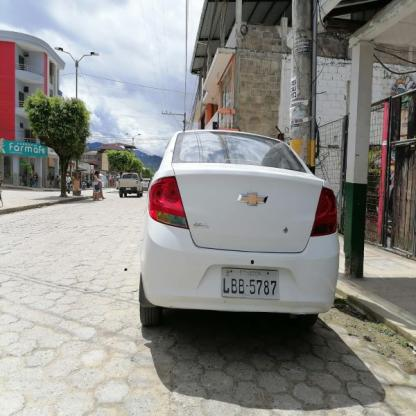Placa: (218, 263, 283, 304)
